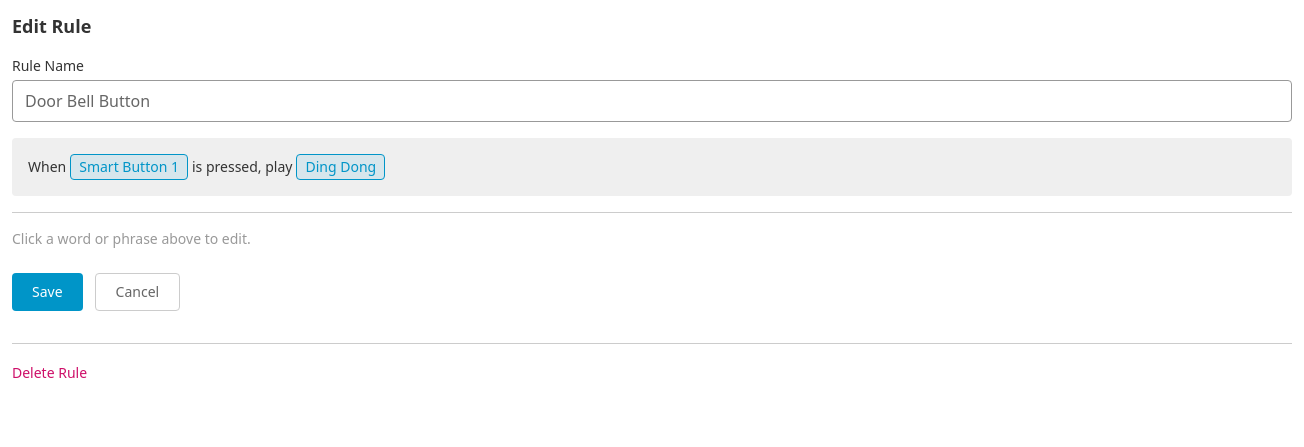
Test: RulePanel (edit mode) › cancels delete confirmation
Click the button "Delete Rule" at x=50, y=373, box [12,363,87,383]
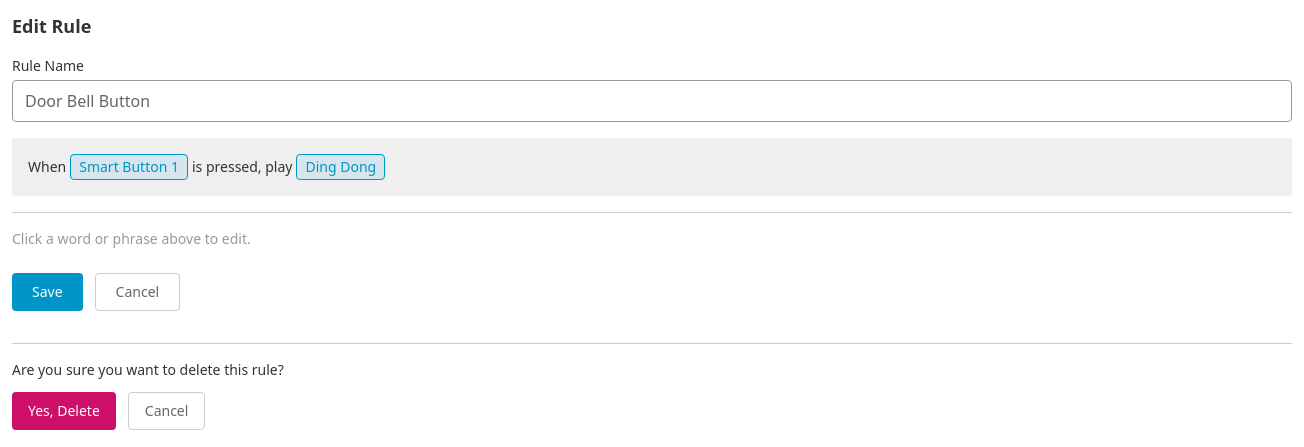
Click the 2nd button "Cancel" at x=167, y=411, box [128,392,205,430]
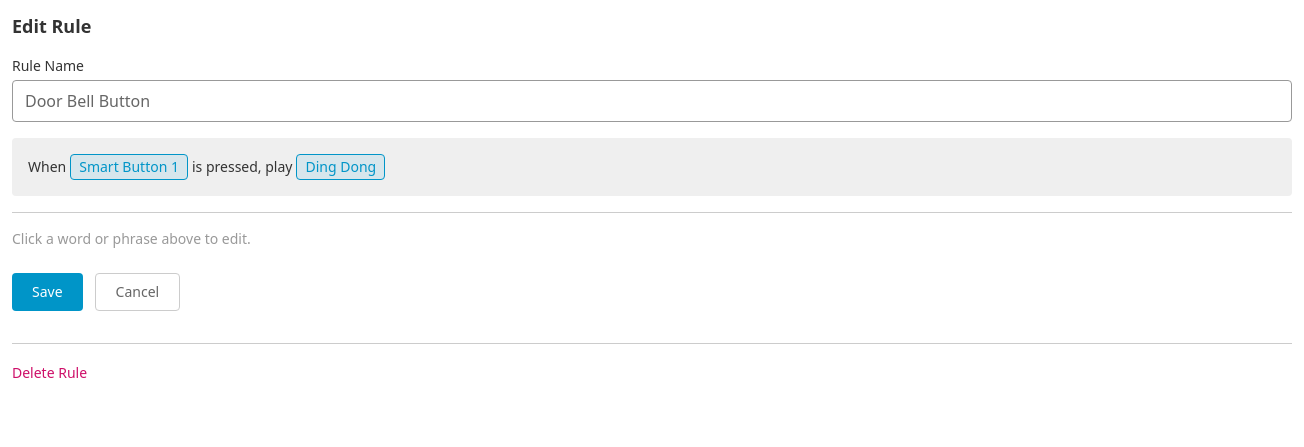
Expected: the button "Delete Rule" is shown, [12,363,87,383]
